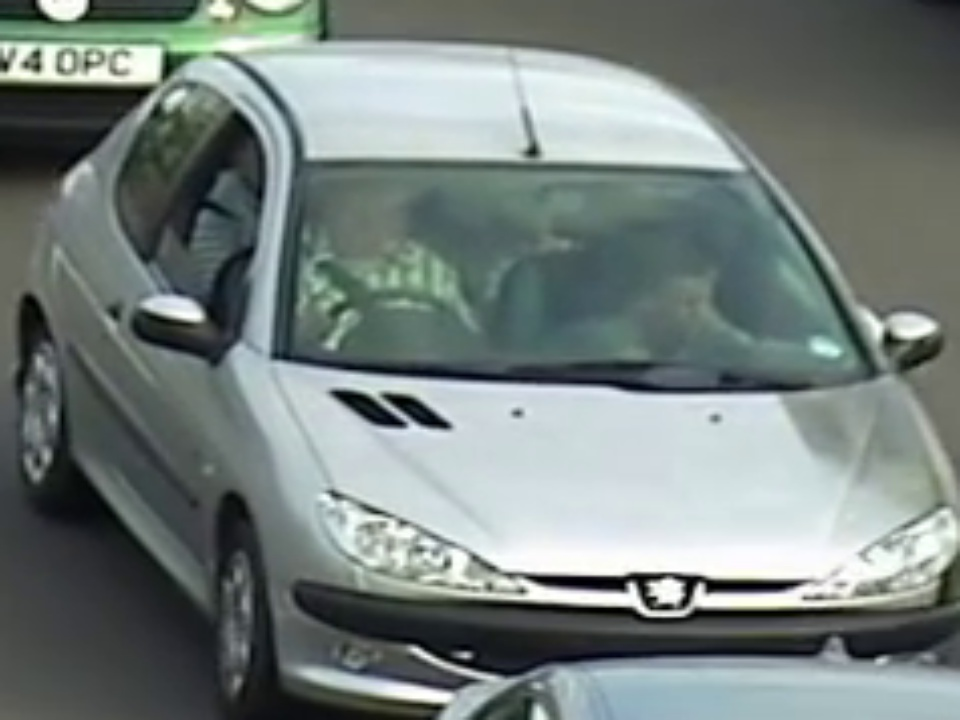TWO: (289, 164, 843, 387)
